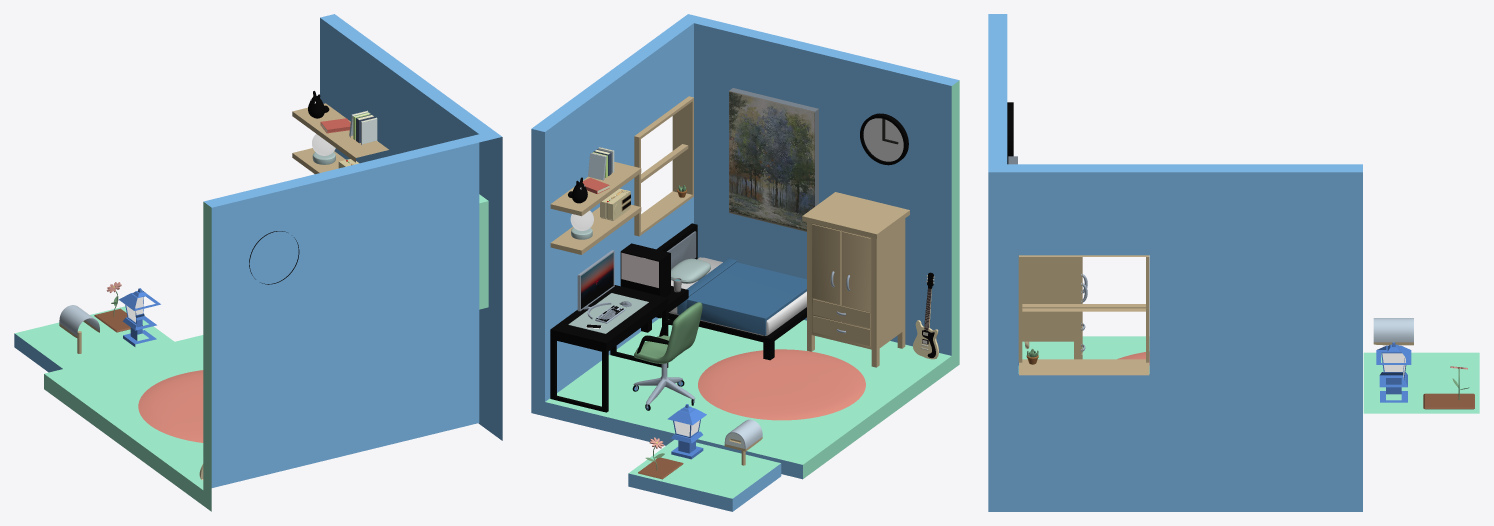
Rendered from roomFront.glb.
The picture shows the model from 3 angles, left to right: view 1: azimuth 30°, elevation 25°; view 2: azimuth 150°, elevation 25°; view 3: azimuth 270°, elevation 25°; orthographic projection. The views are drawn at different scales.
Parts seen in each view (by area): view 1: CONTAINER, CONTAINER.001, rug, wall stands, Cube.003, lantern, Cylinder; view 2: CONTAINER, Cube, CONTAINER.003, rug, CONTAINER.001, blanket, desk, window, wall stands, bed frame, clock, chair (+13 smaller); view 3: CONTAINER, CONTAINER.001, Cube, window, lantern, Cylinder, CONTAINER.002.
Boxes of the visible parts, left/top/right/bottom form: CONTAINER: left=44, top=14, right=502, bottom=511; CONTAINER.001: left=14, top=306, right=174, bottom=372; rug: left=138, top=370, right=203, bottom=442; wall stands: left=292, top=103, right=388, bottom=174; Cube.003: left=320, top=110, right=377, bottom=144; lantern: left=119, top=288, right=160, bottom=346; Cylinder: left=59, top=305, right=99, bottom=337; CONTAINER: left=531, top=14, right=959, bottom=479; Cube: left=802, top=192, right=909, bottom=367; CONTAINER.003: left=729, top=88, right=818, bottom=231; rug: left=698, top=349, right=865, bottom=420; CONTAINER.001: left=628, top=439, right=781, bottom=511; blanket: left=677, top=258, right=806, bottom=335; desk: left=550, top=285, right=668, bottom=412; window: left=634, top=96, right=693, bottom=236; wall stands: left=550, top=162, right=641, bottom=254; bed frame: left=656, top=223, right=806, bottom=343; clock: left=860, top=113, right=908, bottom=165; chair: left=634, top=302, right=702, bottom=363; CONTAINER: left=988, top=14, right=1362, bottom=511; CONTAINER.001: left=1363, top=352, right=1479, bottom=413; Cube: left=1018, top=255, right=1082, bottom=361; window: left=1019, top=255, right=1149, bottom=375; lantern: left=1376, top=342, right=1411, bottom=402; Cylinder: left=1373, top=318, right=1413, bottom=345; CONTAINER.002: left=1423, top=393, right=1474, bottom=409.
Bounding box in the file's own units: 3.06 × 3.05 × 3.98.
Materials: 49 (2 with a texture image).
